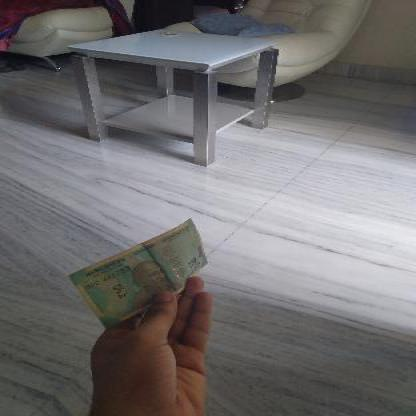New50Front: (74, 219, 223, 318)
